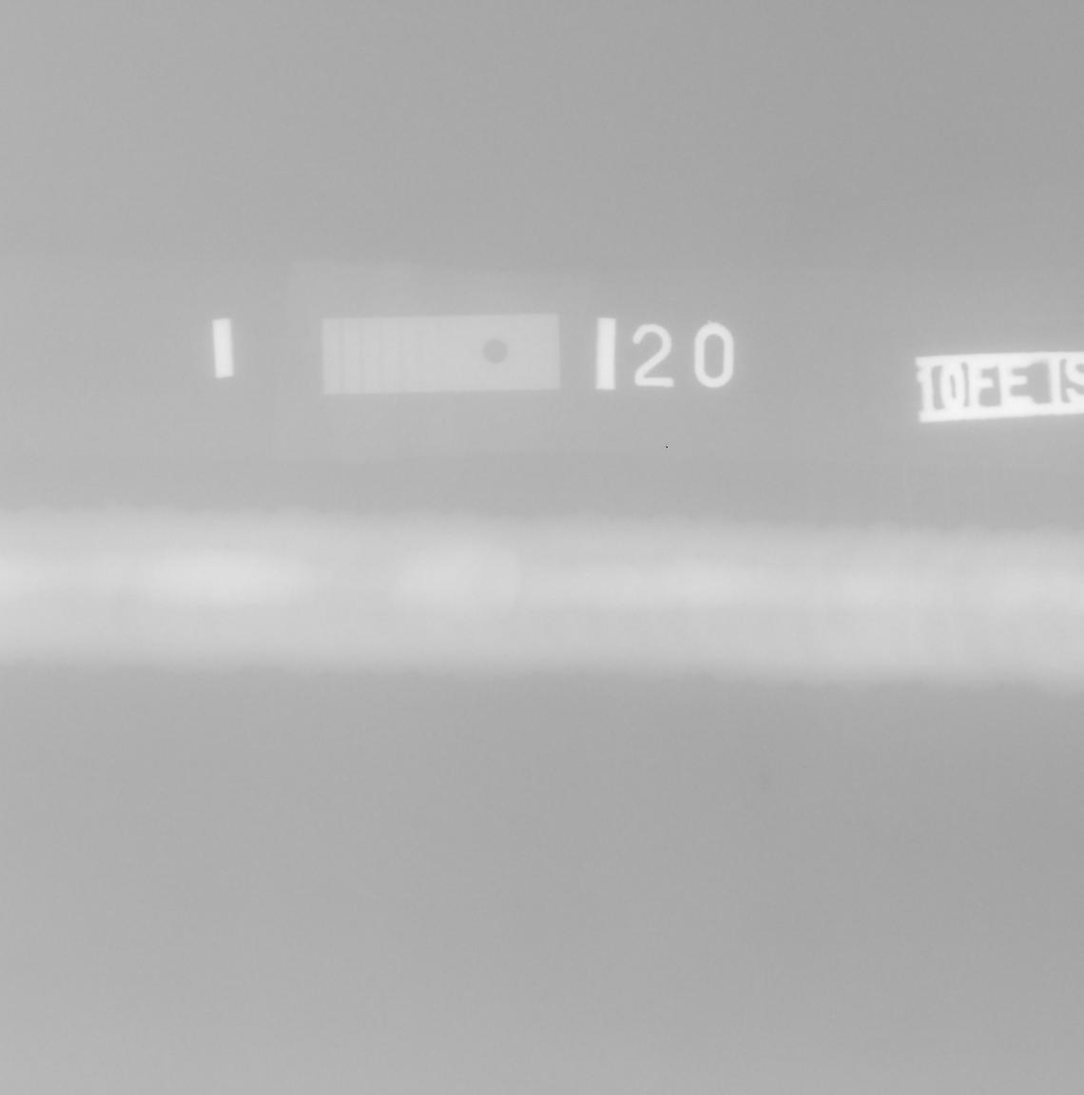Pore/Porosity: (945, 565, 948, 573)
Reference Standard 1: (321, 313, 561, 394)
